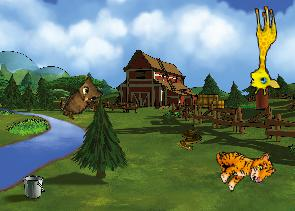giraffe: (243, 4, 281, 96)
owl: (60, 73, 107, 127)
tiger: (210, 134, 277, 197)
